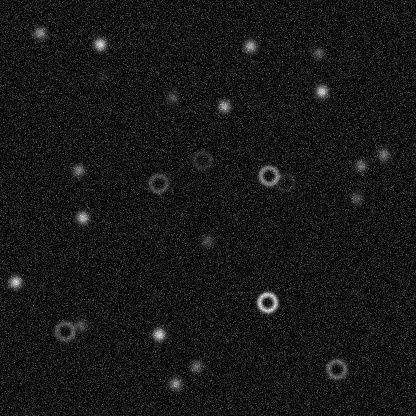Ring: (256, 163, 280, 187), (273, 169, 297, 193), (255, 290, 279, 314), (52, 318, 76, 342), (324, 356, 348, 380), (146, 171, 170, 195), (190, 148, 214, 172)
Spot: (352, 157, 368, 173), (74, 209, 90, 225), (164, 89, 180, 105), (31, 24, 47, 40), (375, 146, 391, 162), (348, 190, 364, 206), (199, 232, 215, 248), (7, 273, 23, 289), (216, 98, 232, 114), (91, 36, 107, 52), (94, 67, 110, 83), (310, 45, 326, 61), (70, 161, 86, 177), (242, 37, 258, 53), (167, 375, 183, 391), (150, 326, 166, 342), (313, 83, 329, 99), (188, 358, 204, 374), (72, 316, 88, 332)
